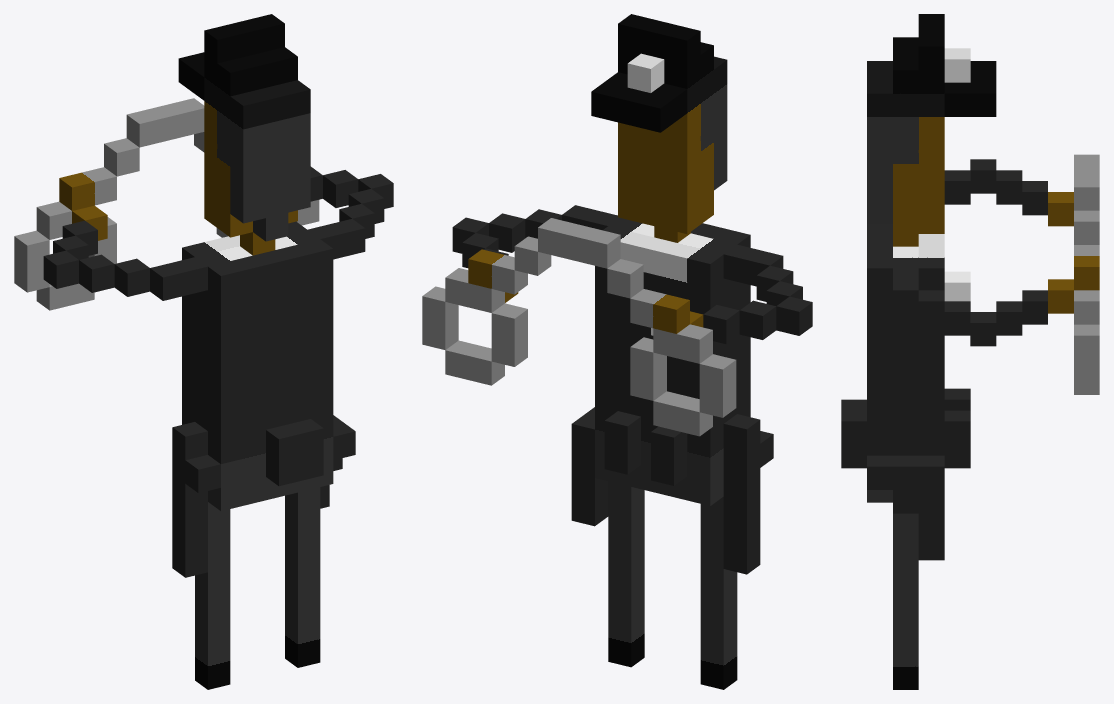
File: Police1.dae
3 views of the same model, side by side, from view 1: azimuth 30°, elevation 25°; view 2: azimuth 150°, elevation 25°; view 3: azimuth 270°, elevation 25° (orthographic). The views are drawn at different scales.
Parts seen in each view (by area): view 1: Person1; view 2: Person1; view 3: Person1.
Boxes of the visible parts, x1,y1,x2,y2 form: Person1: (14,14,393,689); Person1: (422,14,812,689); Person1: (841,14,1099,689).
Bounding box in the file's own units: 15 × 27 × 10.
Materials: 1 (1 with a texture image).
